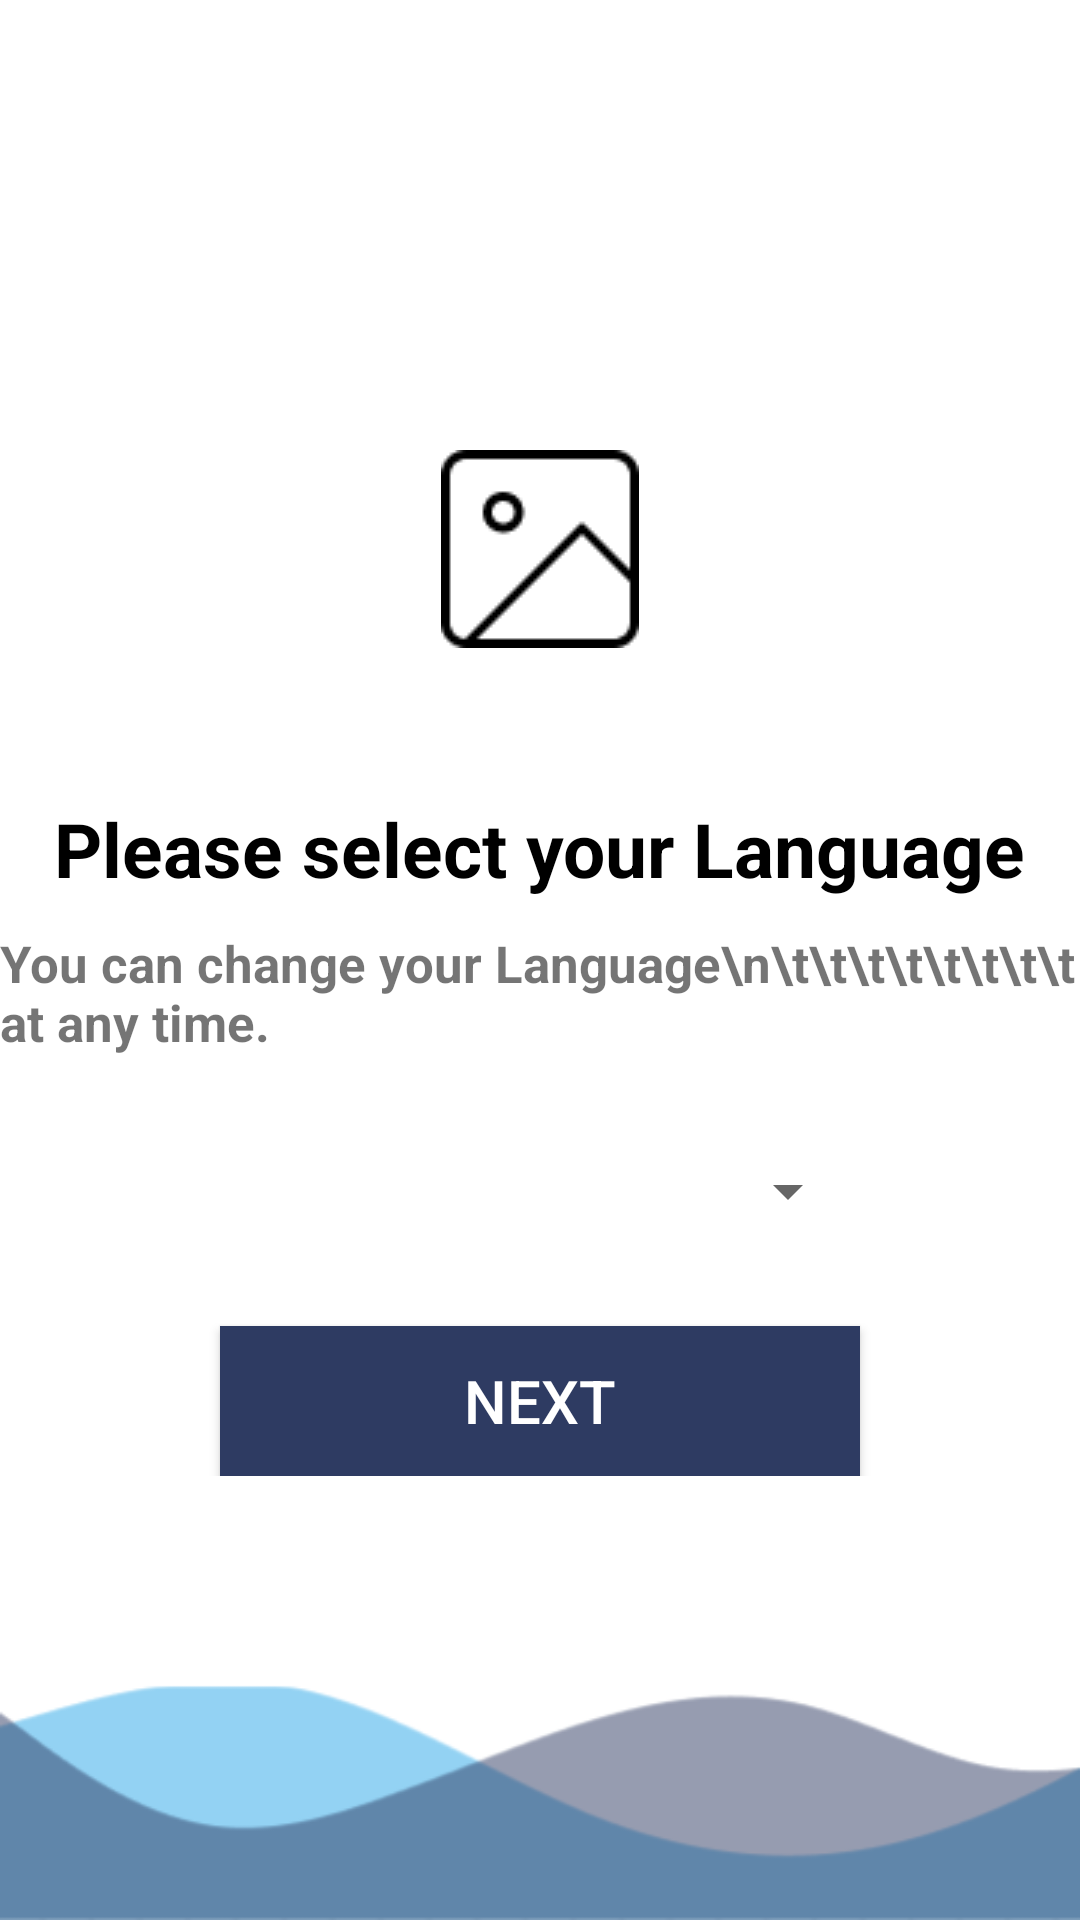

Icon bounding boxes for this 1080w x 1920h phone screenshot, format (x1, y1, x2, y2):
gallery: (441, 450, 639, 648)
